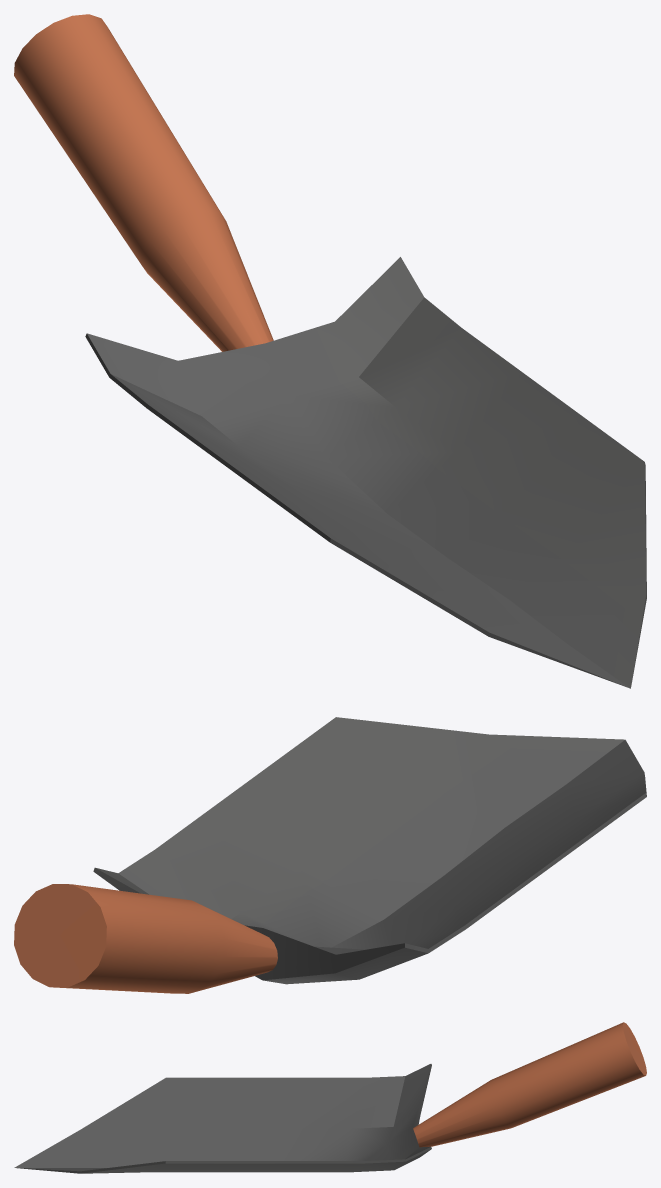
Rendered from schepje.fbx.
3 renders of one model, top to bottom at view 1: azimuth 30°, elevation 25°; view 2: azimuth 150°, elevation 25°; view 3: azimuth 270°, elevation 25°, orthographic. The views are drawn at different scales.
Parts seen in each view (by area): view 1: Cylinder; view 2: Cylinder; view 3: Cylinder.
Boxes of the visible parts, box(x1,y1,x2,y2) form: Cylinder: box(14, 14, 646, 688); Cylinder: box(14, 717, 646, 993); Cylinder: box(14, 1022, 646, 1173).
Bounding box in the file's own units: 0.0682 × 0.0554 × 0.2178.
